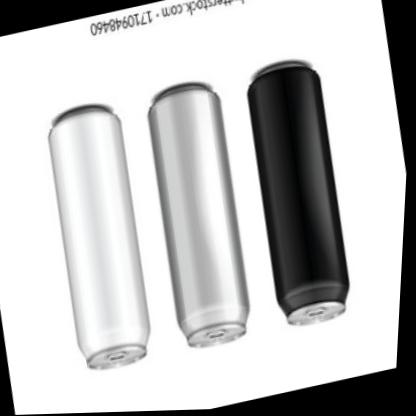metal: (49, 105, 148, 368), (248, 61, 347, 324), (149, 83, 247, 346)
